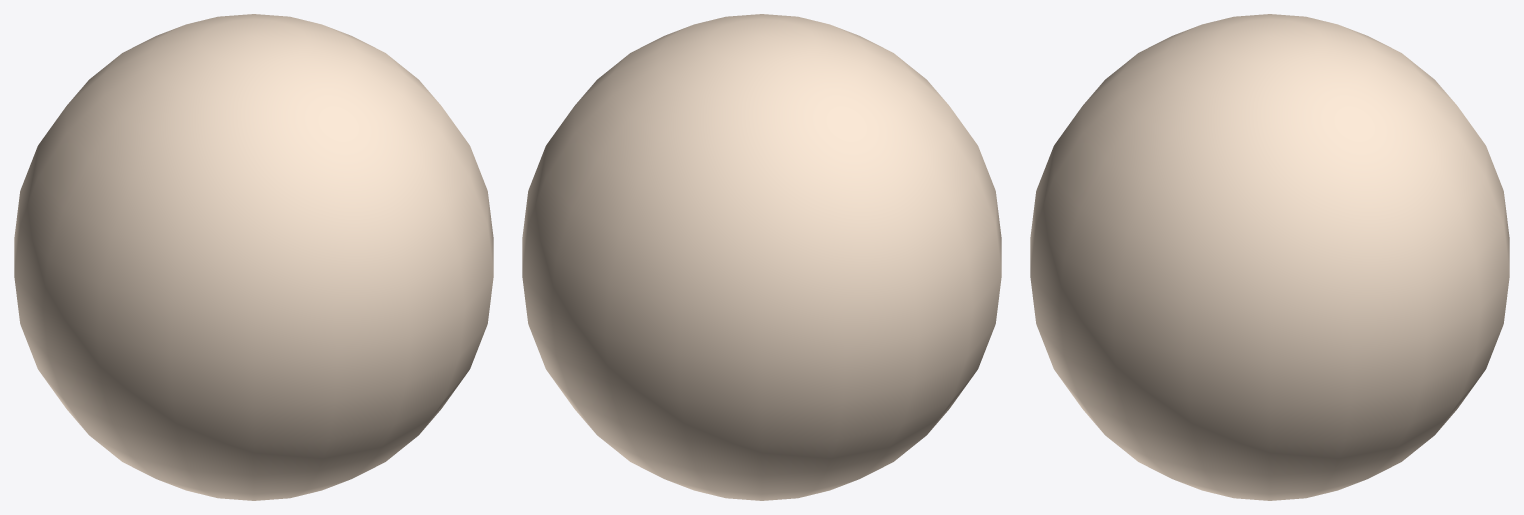
The model's file is head-round-01.glb.
3 views of the same model, side by side, from view 1: azimuth 30°, elevation 25°; view 2: azimuth 150°, elevation 25°; view 3: azimuth 270°, elevation 25° (orthographic).
Bounding box in the file's own units: 2 × 2 × 1.97.
